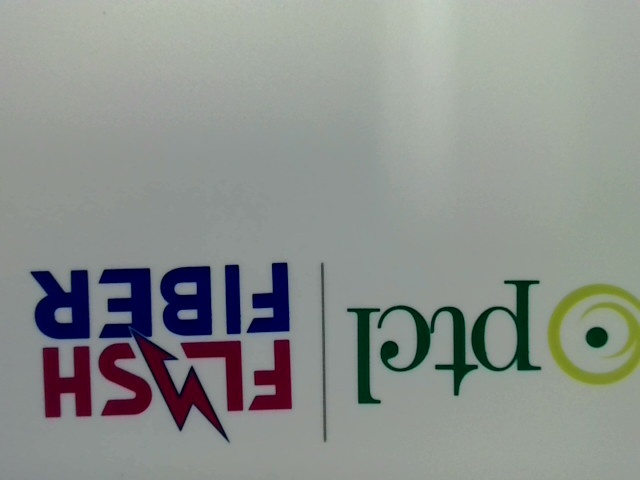BF_PTCL: (340, 272, 638, 407)
